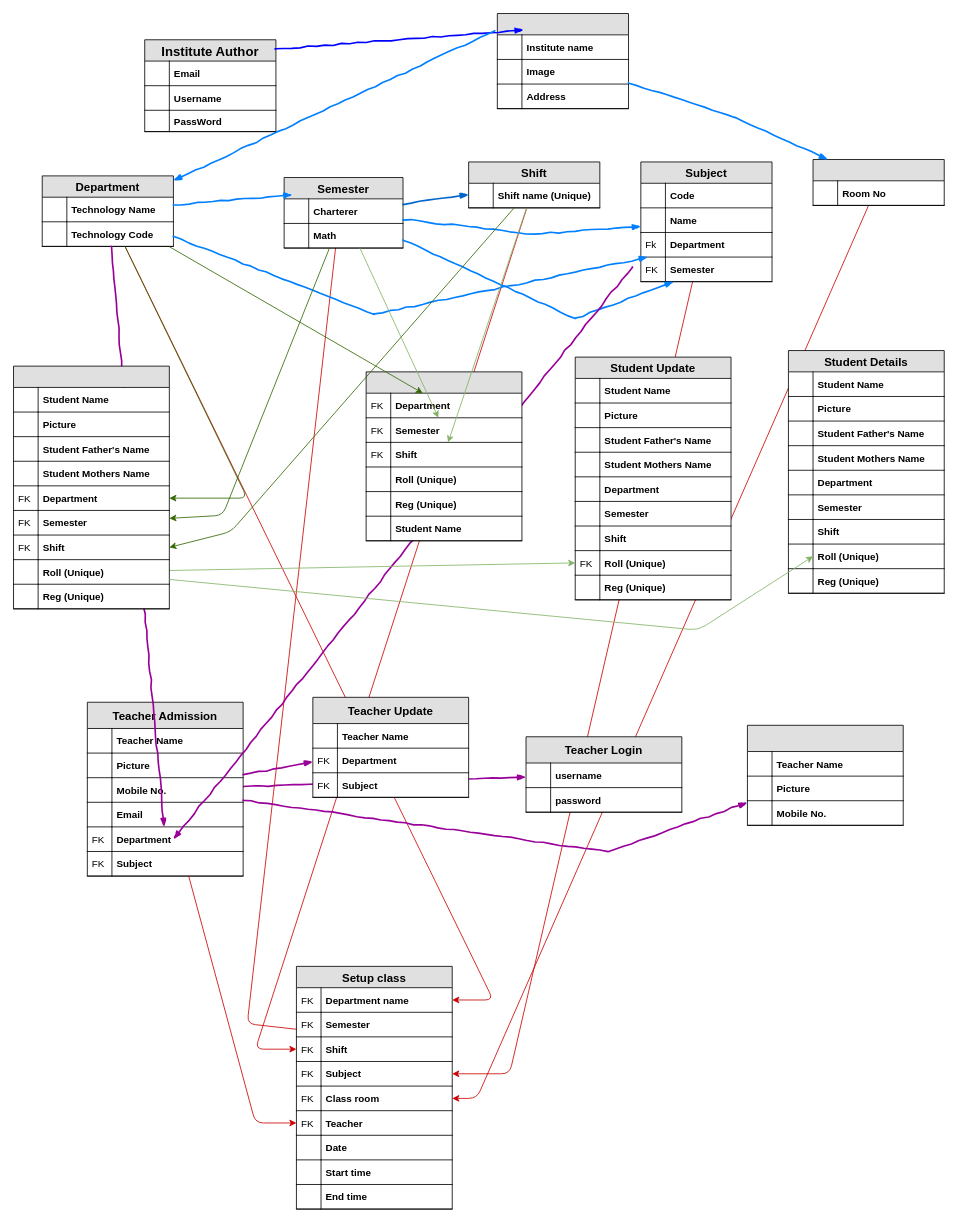
This 958x1223 diagram has some shape labels left out. Here are the shapes that lost their labels. From the top down, the box of each, then its label:
(497, 13, 629, 109): Institute Profile
(812, 159, 944, 205): Class Rooms
(365, 371, 522, 541): Student List
(13, 365, 169, 609): Student Admission
(747, 724, 903, 825): Teacher List
